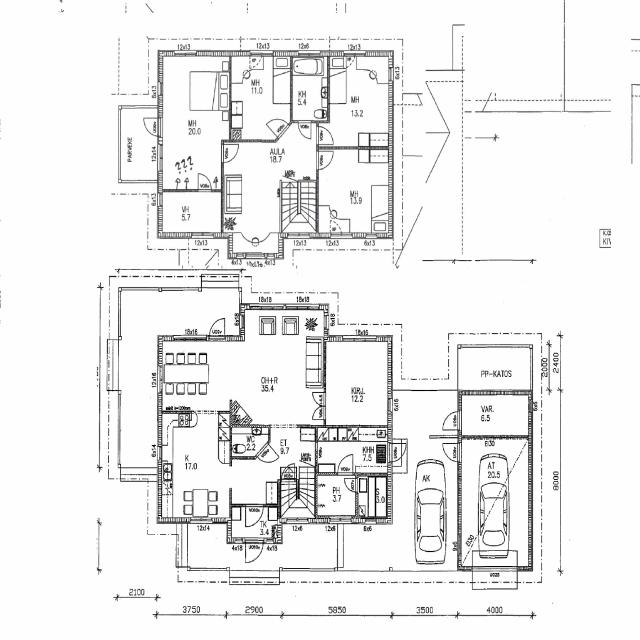door: (266, 111, 290, 139), (256, 442, 278, 471), (245, 538, 263, 566), (245, 504, 263, 528), (442, 443, 462, 462), (388, 444, 408, 462), (442, 412, 462, 430), (143, 118, 162, 136), (210, 318, 224, 342), (338, 454, 352, 476), (316, 126, 333, 144), (316, 152, 333, 169), (221, 145, 238, 162), (282, 462, 294, 482), (298, 121, 311, 139), (198, 174, 211, 192), (344, 478, 358, 492), (313, 406, 326, 420), (313, 393, 326, 406)
